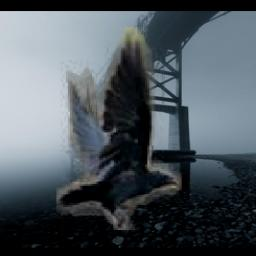Crow: (56, 27, 182, 230)
